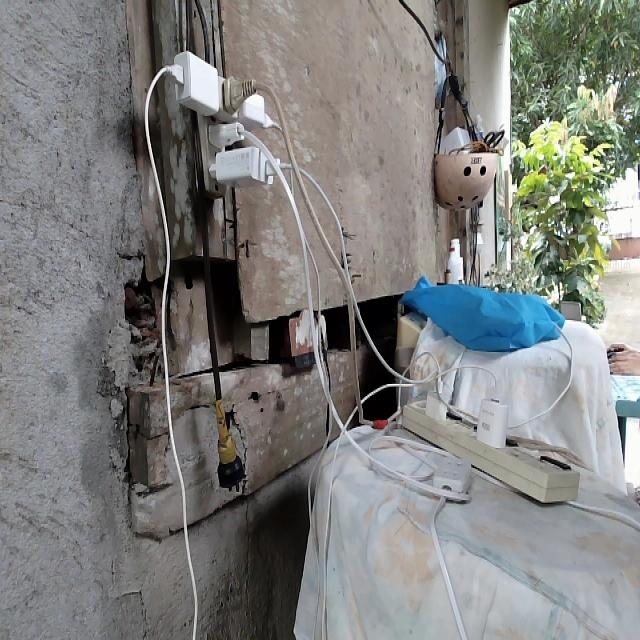-: (160, 47, 287, 192)
